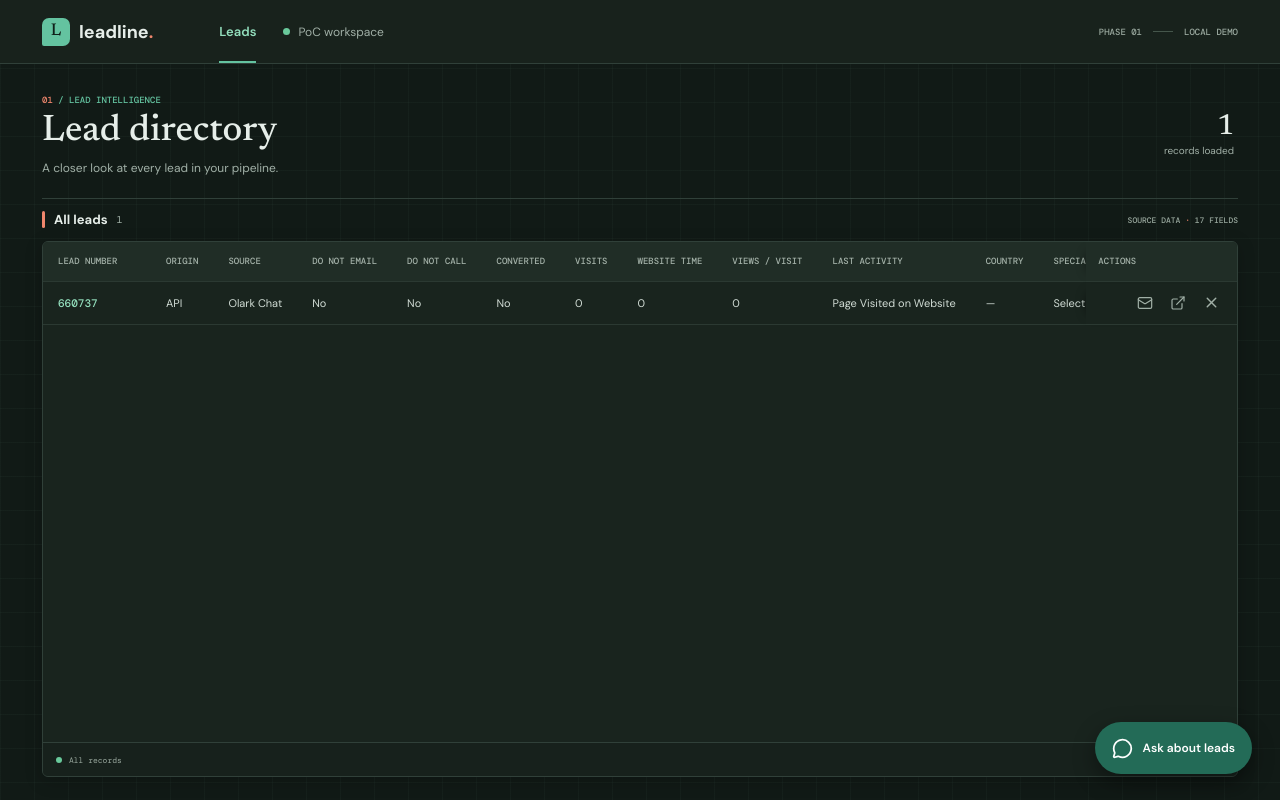
leads dashboard › keeps the conversation when the chat is closed and reopened
Click the button with aria-label "Open chat". click: (1173, 748)
box: [1095,722,1252,774]
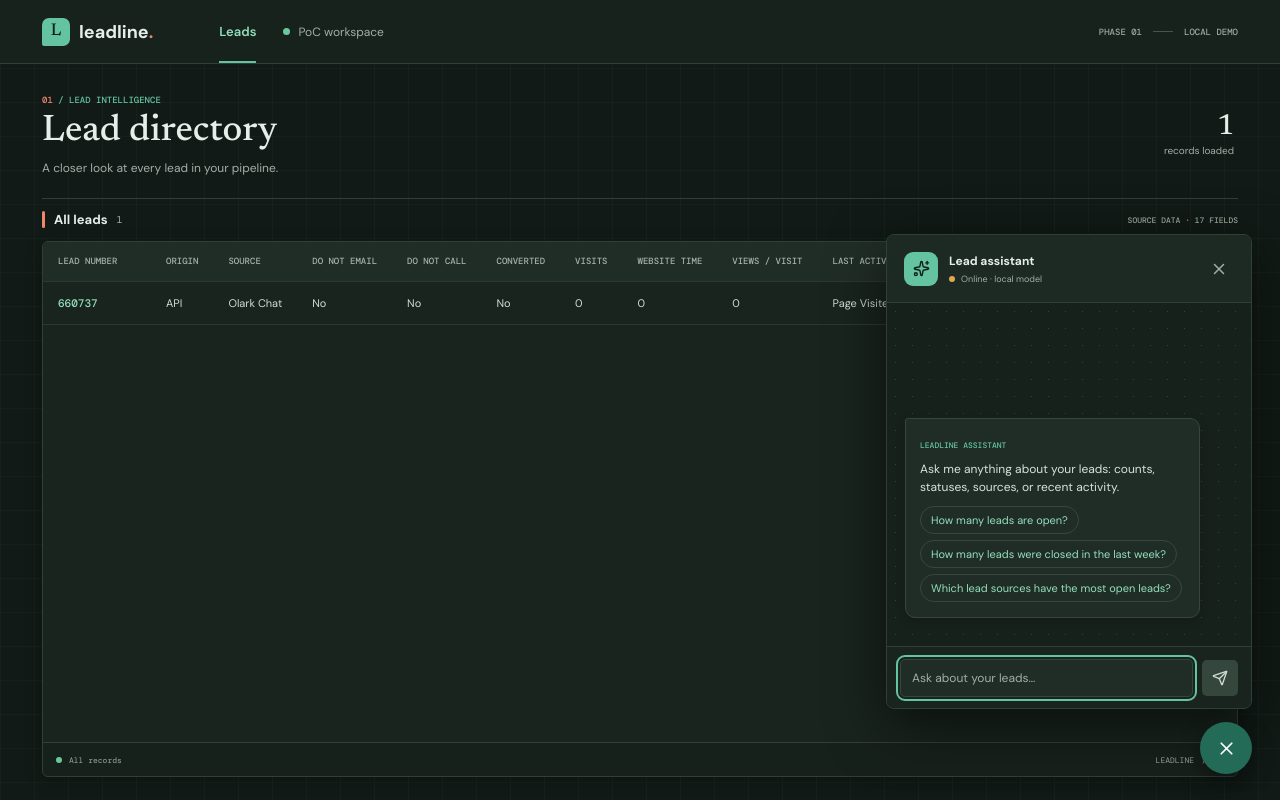
Type "How many leads are open?" into the field named "Message". click: (1046, 678)
box: [900,658,1193,696]
Then press Enter
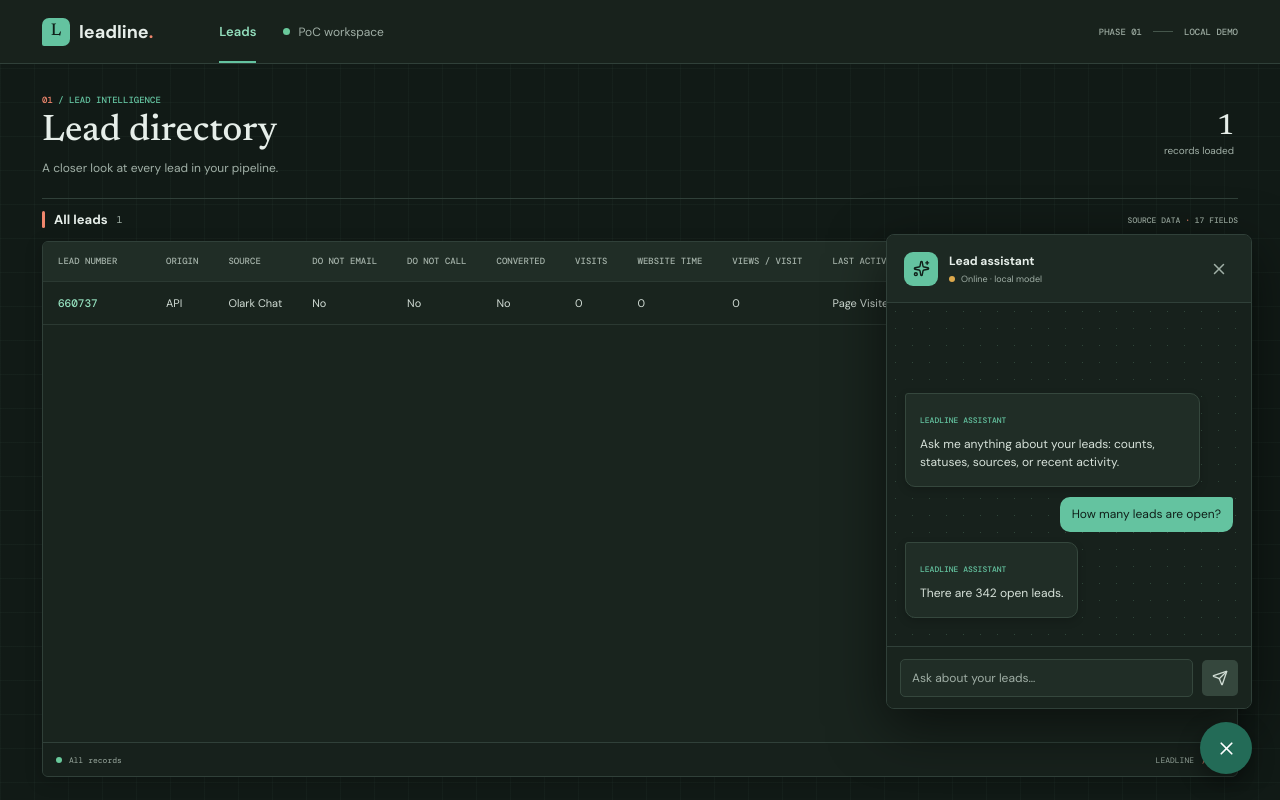
Check: the text "There are 342 open leads." is shown, box [920,584,1063,602]
Click the 2nd button named "Close chat". click: (1226, 748)
box: [1200,722,1252,774]
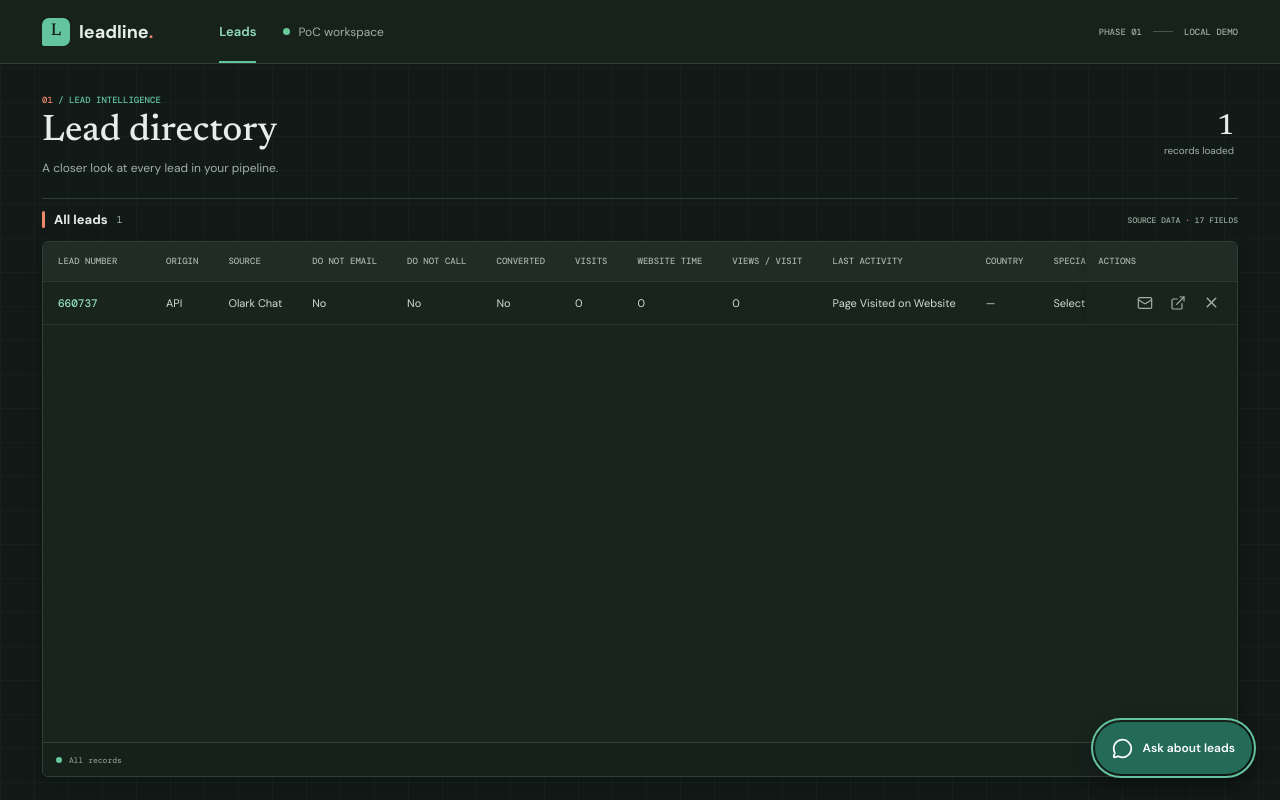
Click the button with aria-label "Open chat". click: (1173, 748)
box: [1095,722,1252,774]
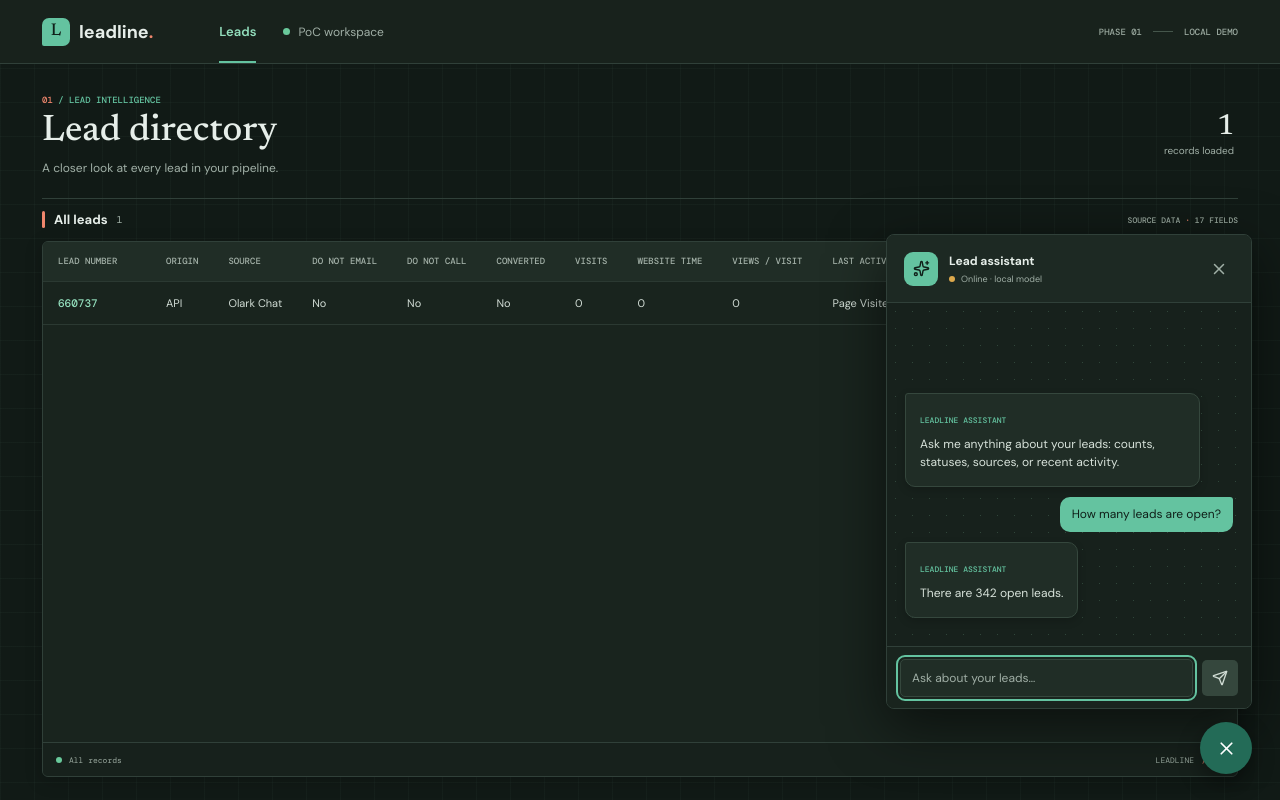
Check: the text "There are 342 open leads." is shown, box [920,584,1063,602]
